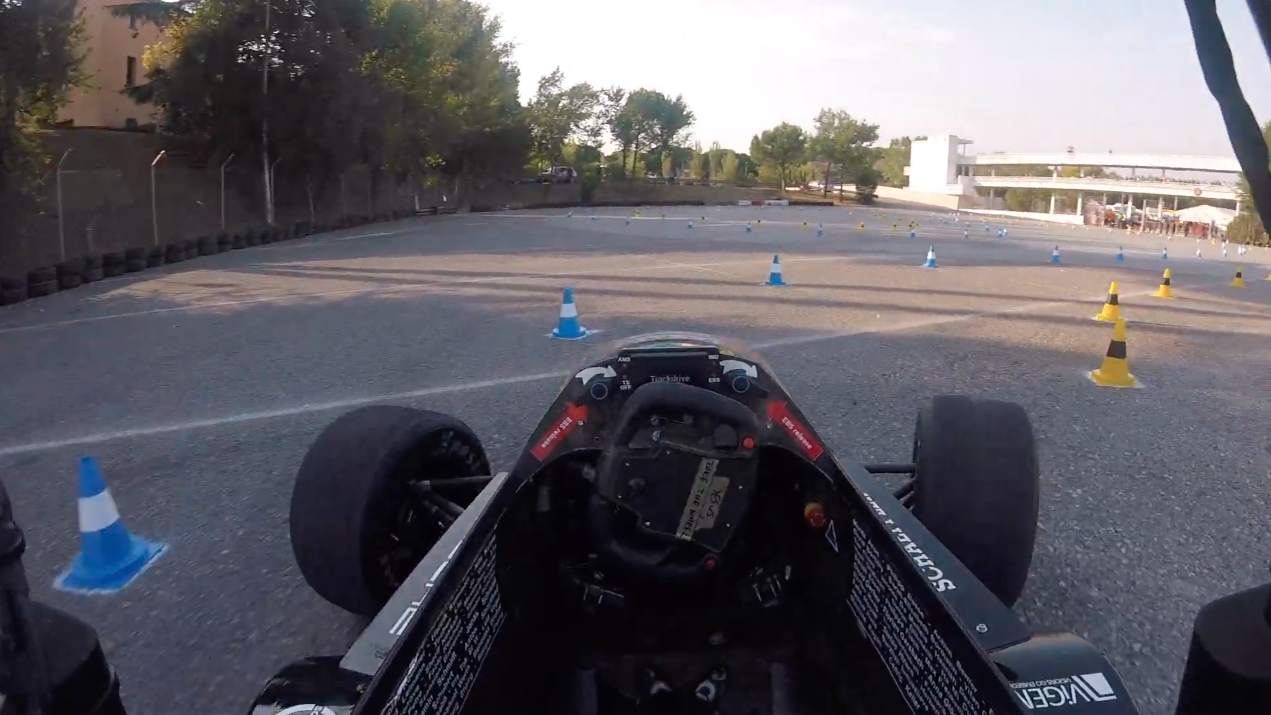lcone: (39, 450, 169, 602), (544, 282, 598, 345), (760, 253, 793, 288), (923, 245, 943, 271)
rcone: (1086, 318, 1145, 388), (1093, 279, 1130, 323), (1150, 265, 1180, 302)
